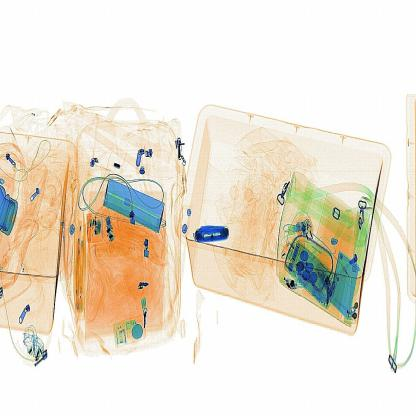scissors: (191, 223, 233, 247)
